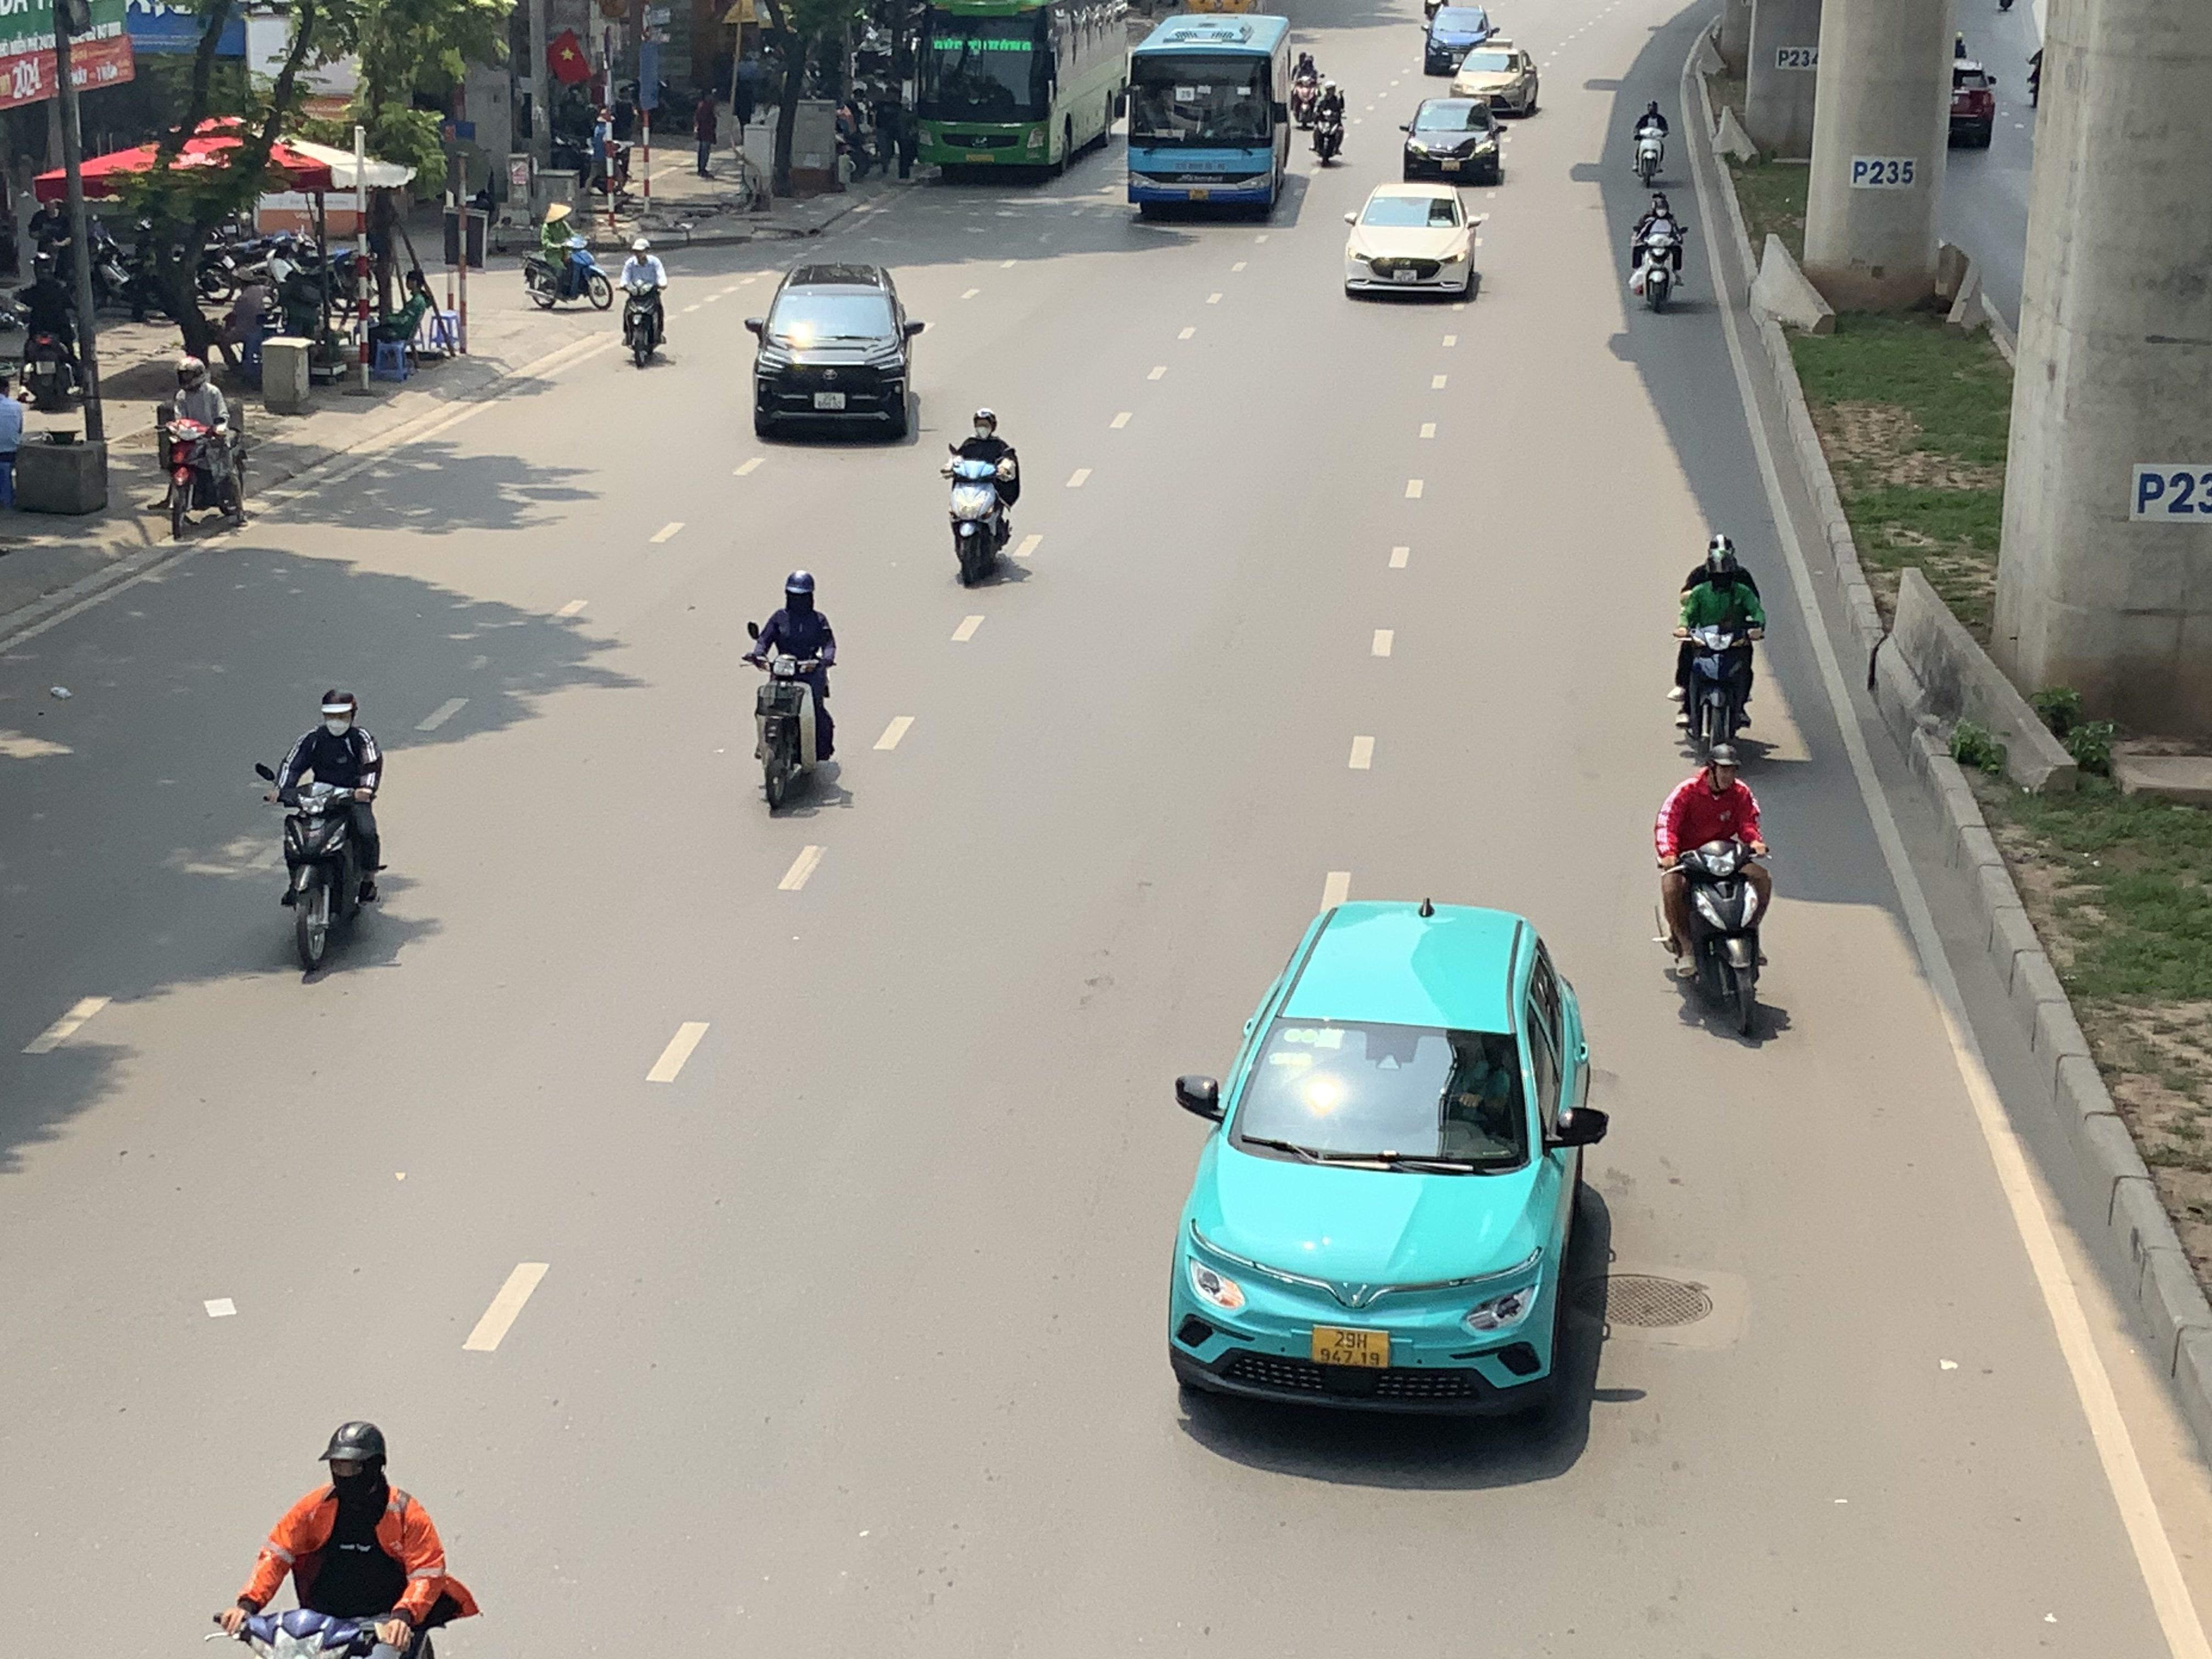BSV: (1312, 1326, 1390, 1368), (813, 392, 845, 410), (1188, 188, 1211, 200)
bus: (906, 0, 1132, 179), (1123, 9, 1298, 221)
car: (1163, 896, 1609, 1429), (744, 263, 925, 444), (1341, 181, 1486, 301), (1397, 96, 1508, 185), (1451, 40, 1541, 117), (1421, 2, 1501, 75), (1947, 52, 1998, 150)
motorbike: (211, 1419, 477, 1659), (260, 685, 387, 983), (1655, 744, 1775, 1044), (744, 570, 840, 819), (1672, 533, 1764, 765), (157, 356, 251, 538), (941, 406, 1021, 589), (5, 253, 85, 410), (523, 206, 613, 312), (1629, 188, 1686, 314), (618, 239, 671, 368), (1630, 96, 1670, 188), (1308, 78, 1348, 167), (1291, 47, 1322, 125)
